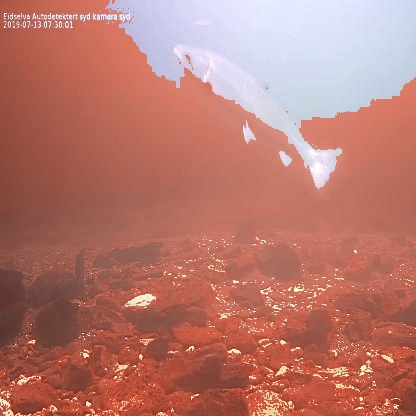salmon: (171, 40, 350, 197)
